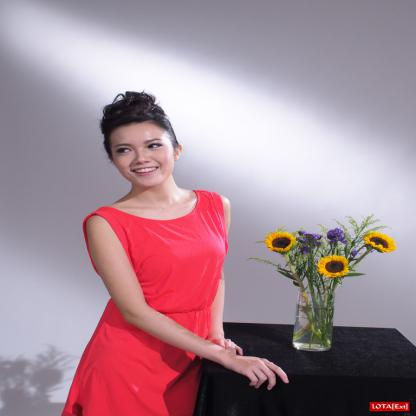vase: (292, 290, 335, 352)
